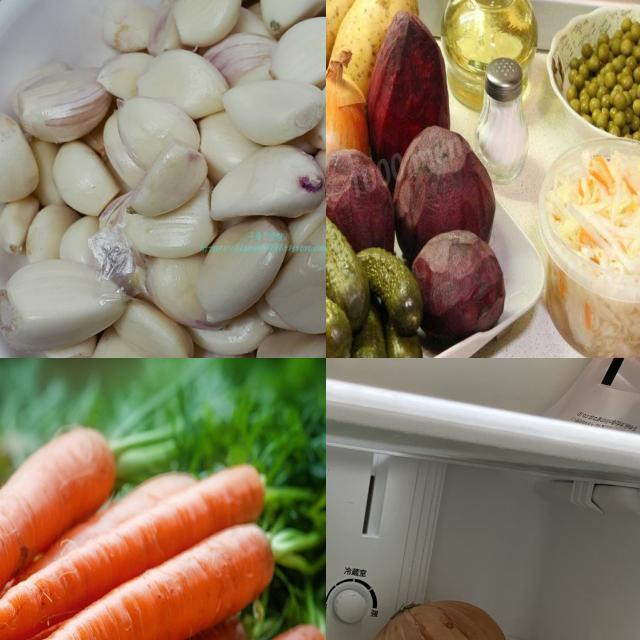beet: (371, 13, 454, 150), (400, 133, 494, 244), (414, 233, 501, 333), (327, 147, 389, 236)
carrot: (1, 461, 266, 640), (1, 523, 275, 640), (1, 429, 113, 640)
cucumber: (373, 255, 413, 320), (327, 209, 353, 295)
garlic: (1, 1, 327, 359)
onion: (359, 597, 512, 640), (327, 63, 369, 179)
potato: (352, 1, 409, 62)
